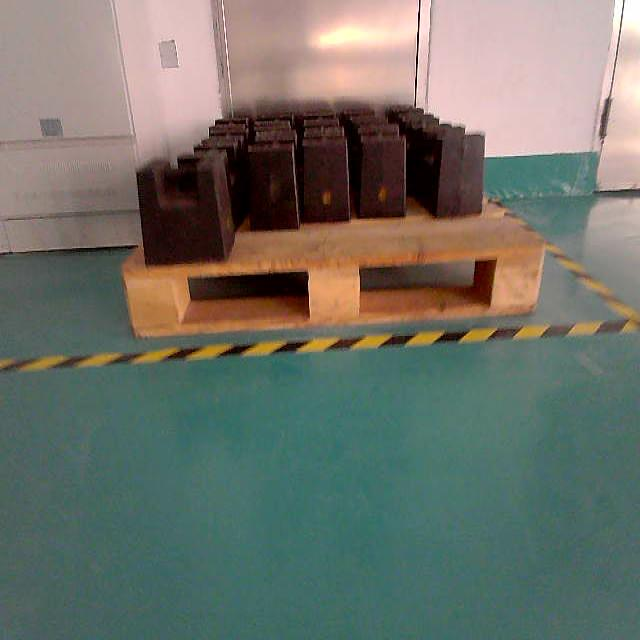euro: (111, 70, 612, 345)
